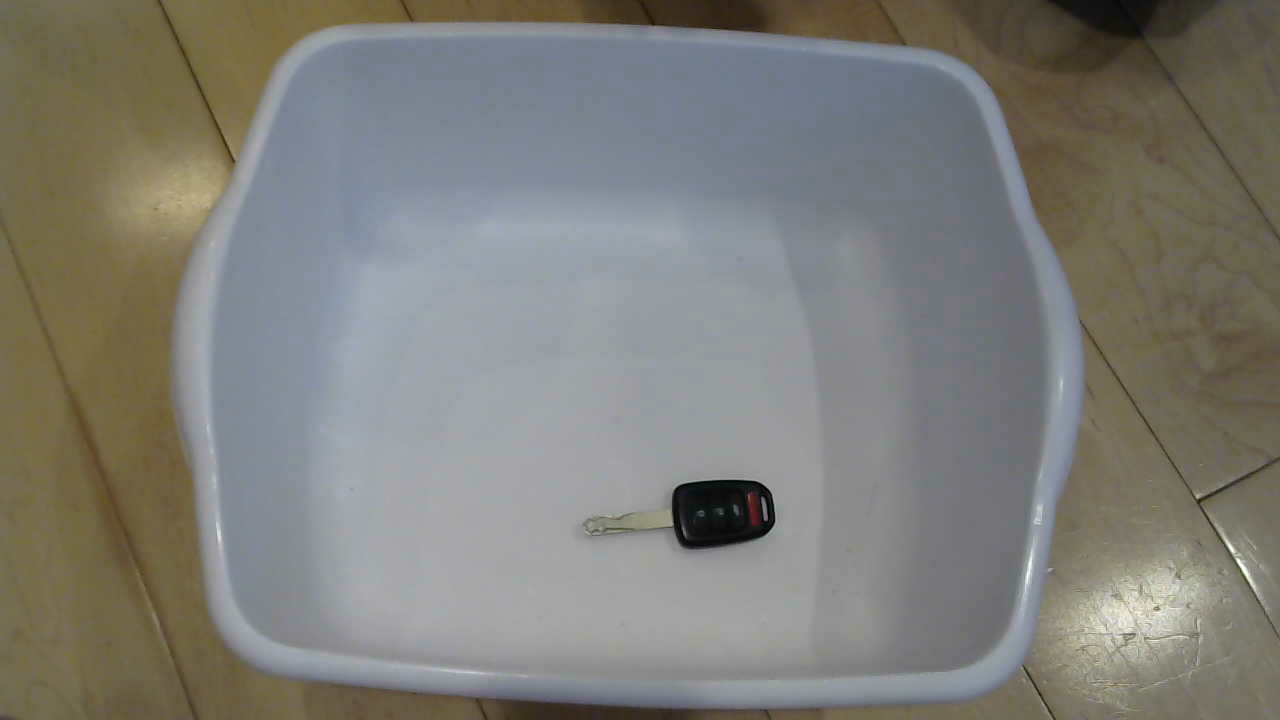key: (571, 467, 797, 568)
